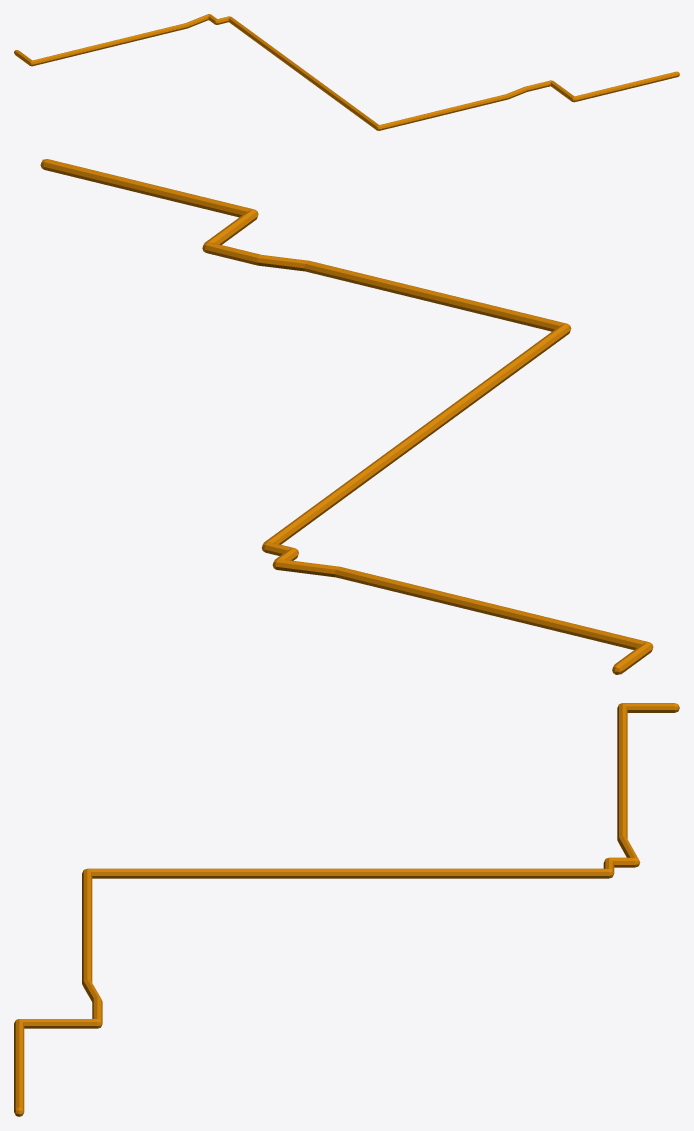
The picture shows the model from 3 angles, top to bottom: view 1: azimuth 30°, elevation 25°; view 2: azimuth 150°, elevation 25°; view 3: azimuth 270°, elevation 25°; orthographic projection. The views are drawn at different scales.
Bounding box in the file's own units: 1852 × 20 × 1276.
